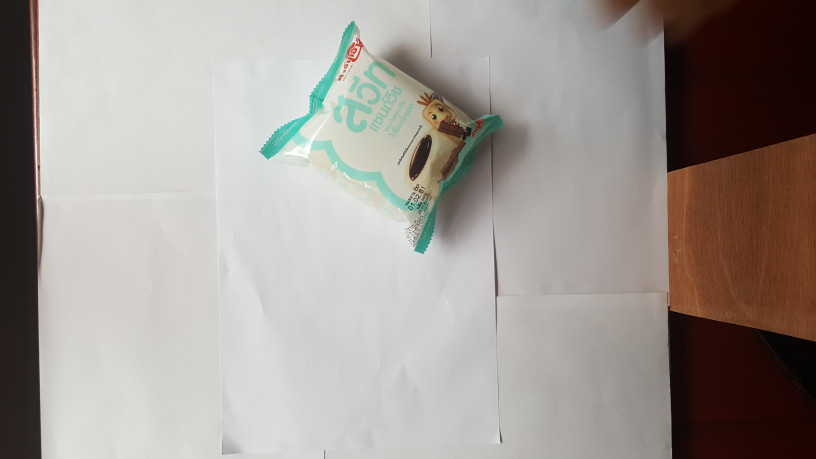farmhouse-sweetsandwich-chocolate: (254, 19, 505, 257)
